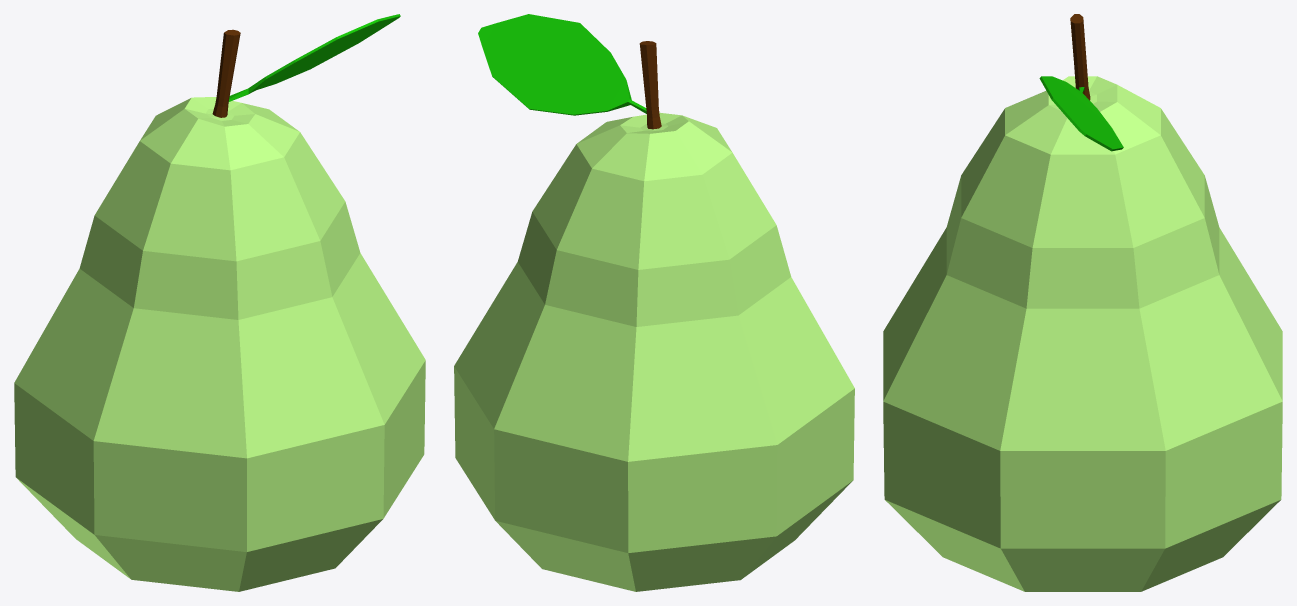
Rendered from pear01.obj.
The picture shows the model from 3 angles, left to right: view 1: azimuth 30°, elevation 25°; view 2: azimuth 150°, elevation 25°; view 3: azimuth 270°, elevation 25°; orthographic projection. The views are drawn at different scales.
Visible parts, largest first — view 1: Cylinder; view 2: Cylinder; view 3: Cylinder.
Boxes of the visible parts, x1=… form: Cylinder: x1=14, y1=14, x2=425, y2=591; Cylinder: x1=454, y1=14, x2=854, y2=591; Cylinder: x1=883, y1=14, x2=1282, y2=591.
Bounding box in the file's own units: 0.0673 × 0.0959 × 0.0646.
1 material, 1 textured.
